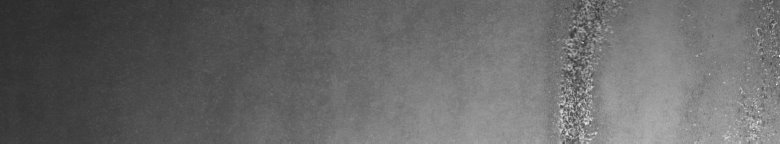hc: (549, 4, 623, 136)
